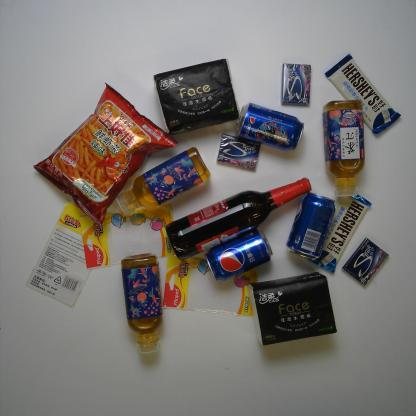Alcohol: (166, 176, 312, 260)
Chocolate: (321, 53, 402, 138), (315, 192, 372, 275)
Drink: (114, 147, 210, 218), (322, 98, 367, 198), (122, 252, 160, 356), (288, 191, 336, 261), (235, 102, 304, 150), (202, 230, 271, 277)
Gum: (342, 233, 390, 289), (216, 131, 262, 173), (280, 60, 314, 109)
Puffed Food: (32, 85, 180, 228)
Stationery: (30, 200, 98, 308), (77, 209, 178, 270), (163, 253, 254, 319)
Tissue: (250, 272, 338, 348), (150, 60, 236, 134)
